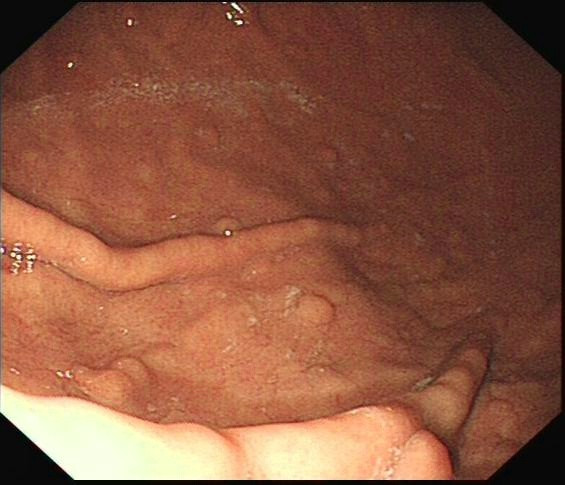Polyp: (68, 353, 151, 404), (396, 426, 453, 478)
